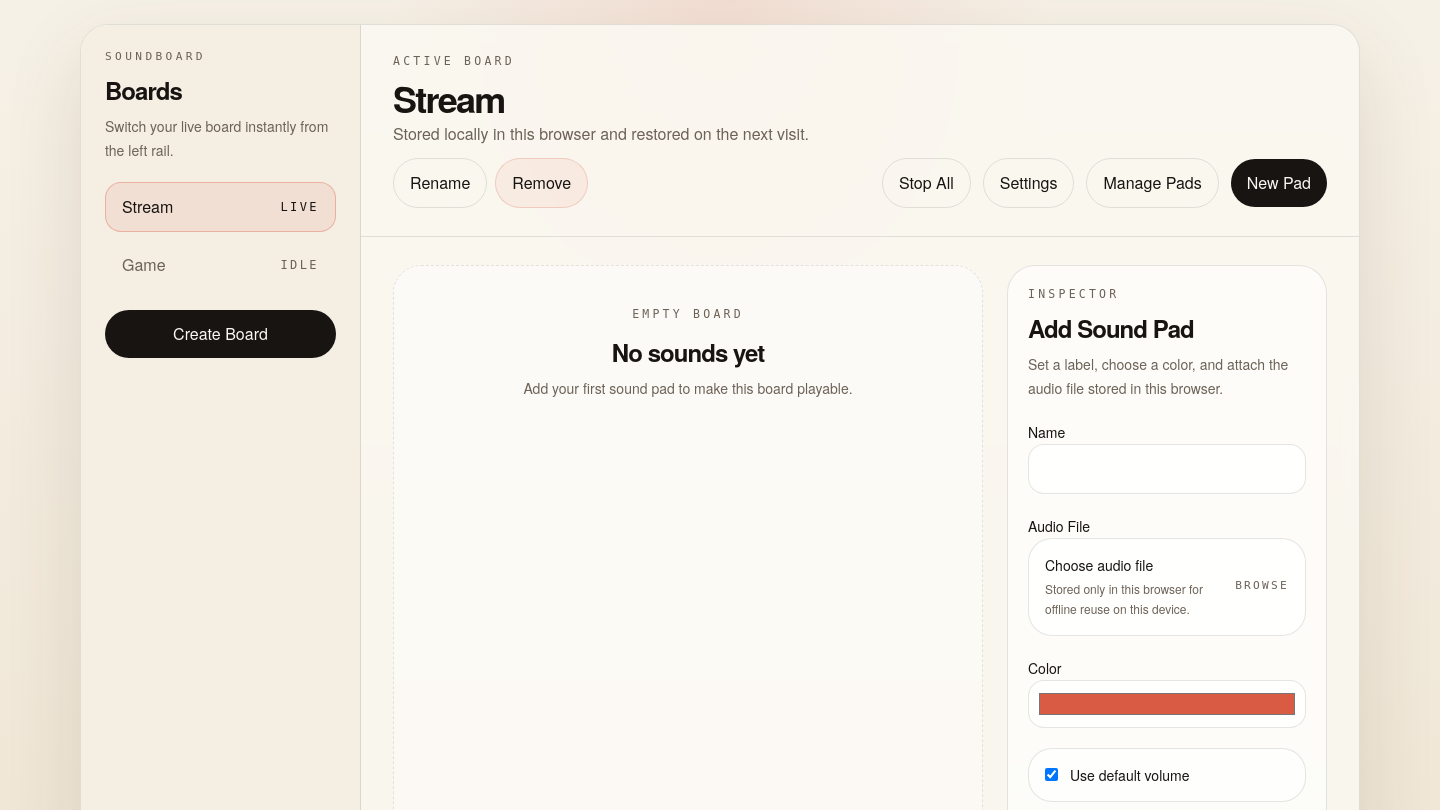
it: SoundboardApp › selects the next board when deleting the active board
What coordinates should you click on to do the following:
click the button with aria-label "delete stream"
I would click on:
 (542, 183)
Its box is [495,158,588,208].
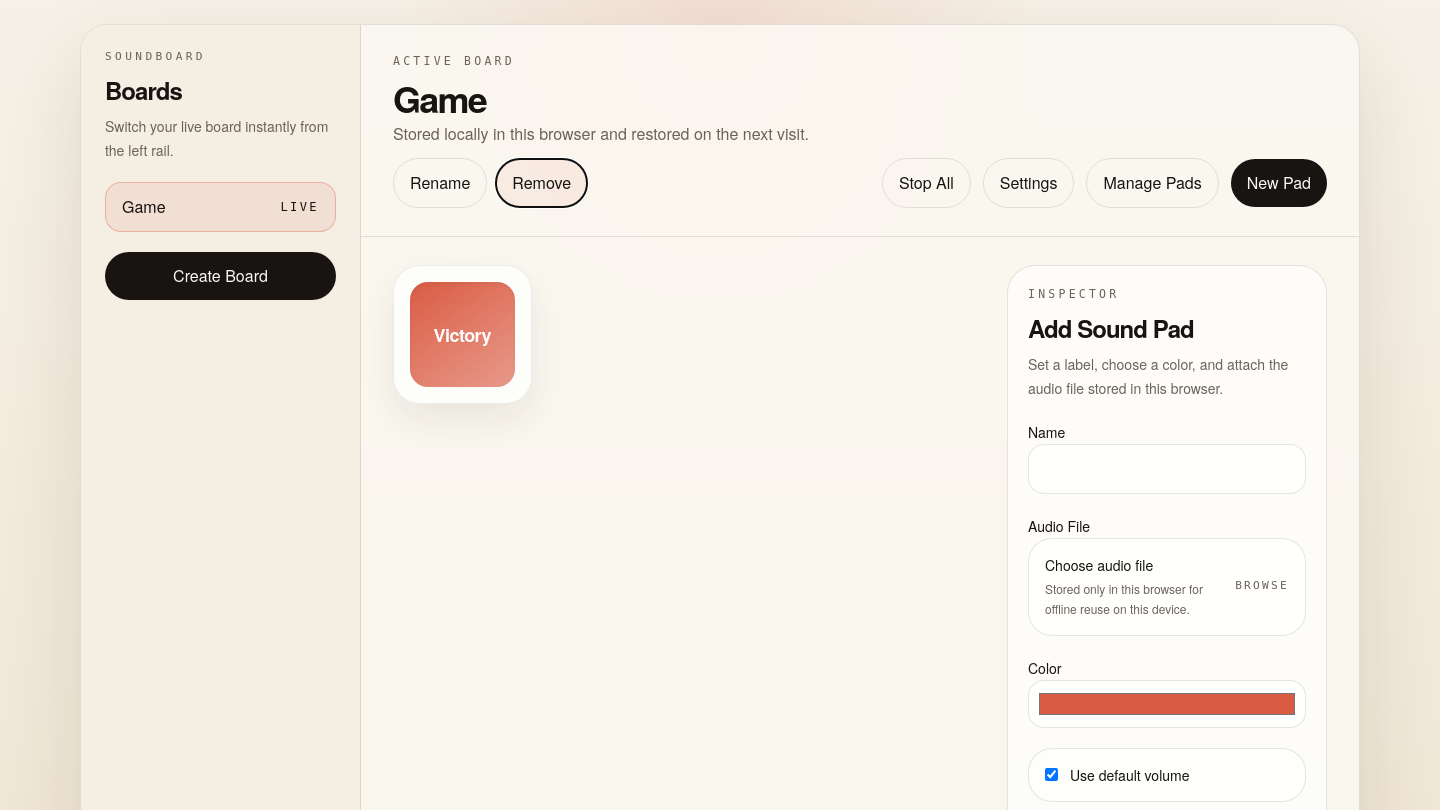
Now the heading "Game" is shown, box [393,72,486,124]
Now the button "Victory" is shown, box [393,265,532,404]
